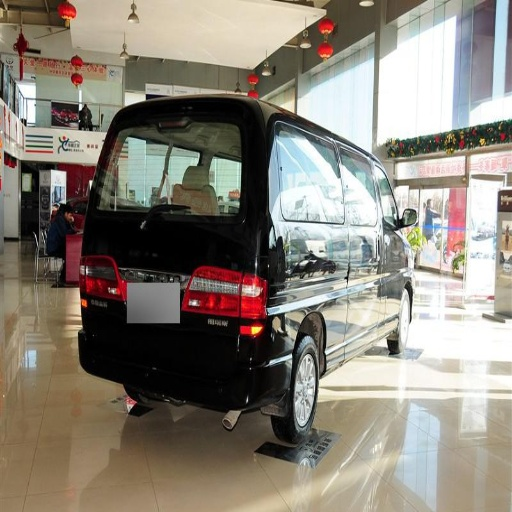back_bumper: (90, 324, 292, 410)
back_left_light: (66, 231, 124, 310)
back_right_door: (283, 146, 354, 356), (356, 167, 377, 256)
trunk: (105, 232, 232, 360)
